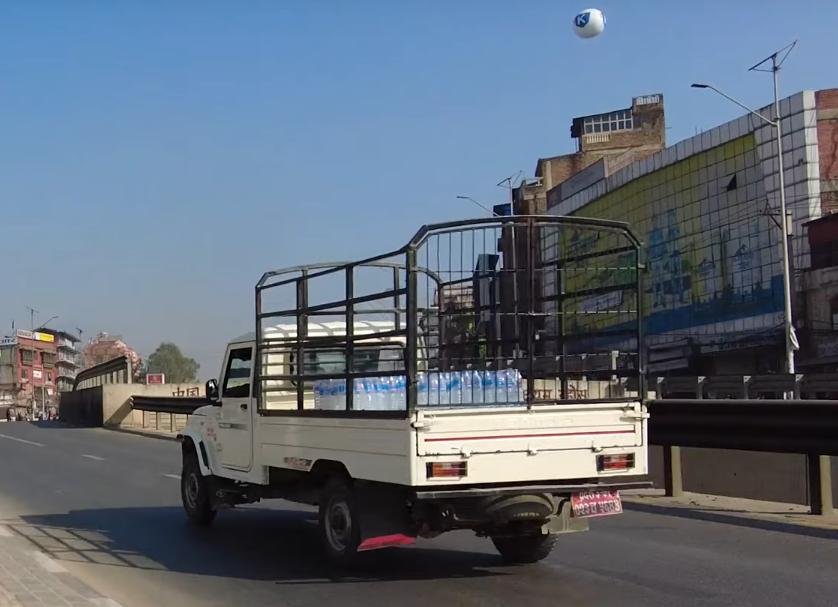transport_vehicle: (177, 191, 673, 575)
